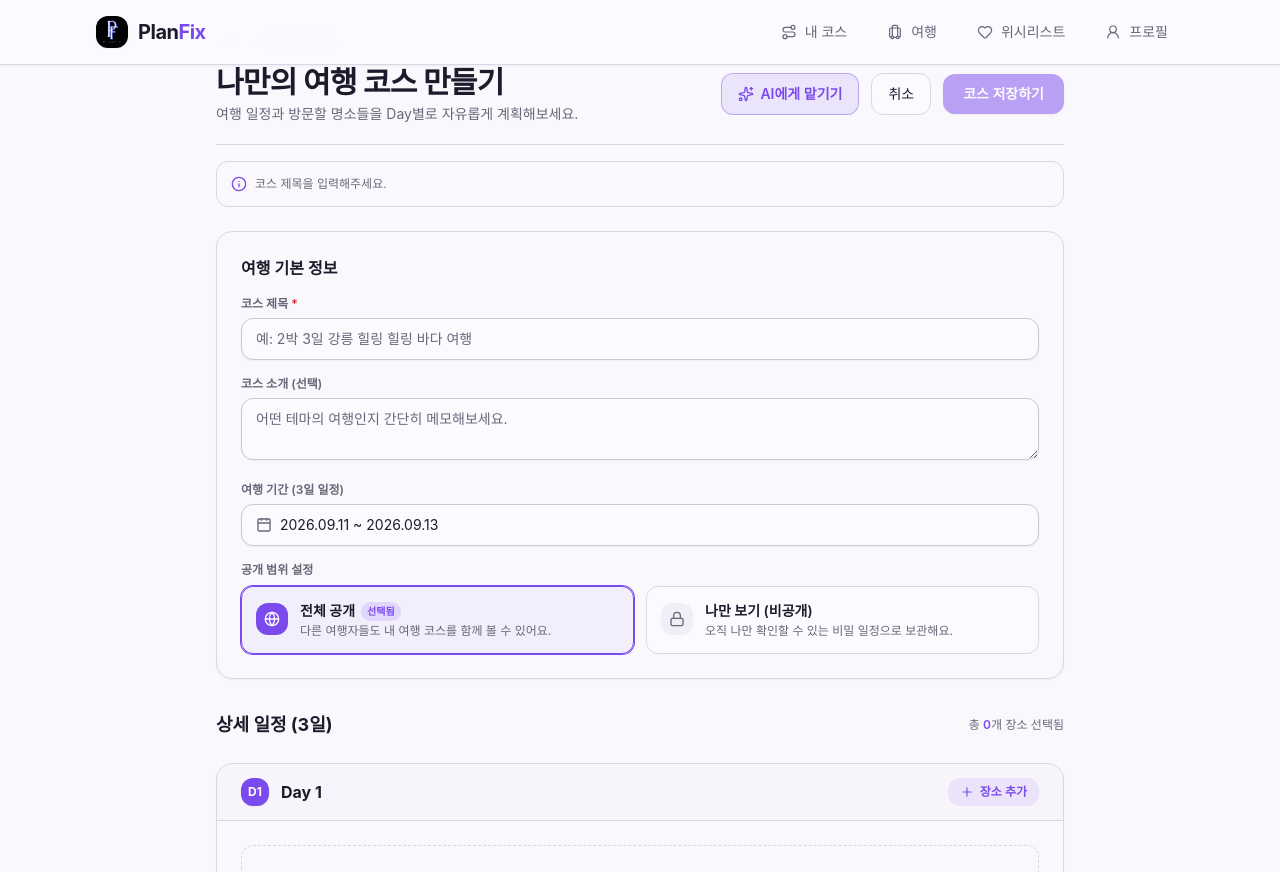
Test: CourseCreatePage › 저장 실패 시 에러 메시지를 표시하고 입력 상태를 유지한다
Type "강릉 바다 여행" into the field with placeholder "예: 2박 3일 강릉 힐링 힐링 바다 여행" at [640, 339], box [241, 318, 1039, 360]
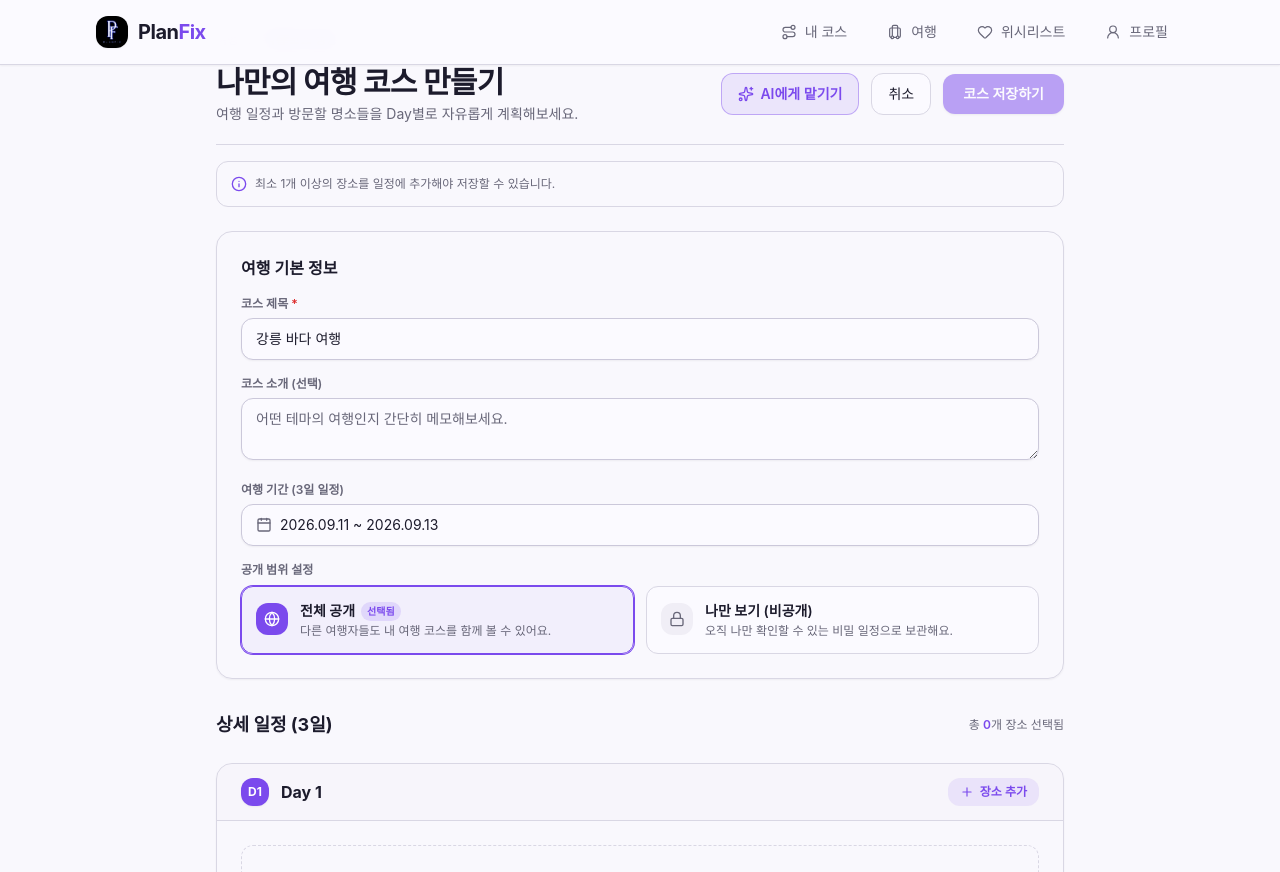
Click the button "장소 추가" at [993, 792], box [948, 778, 1039, 806]
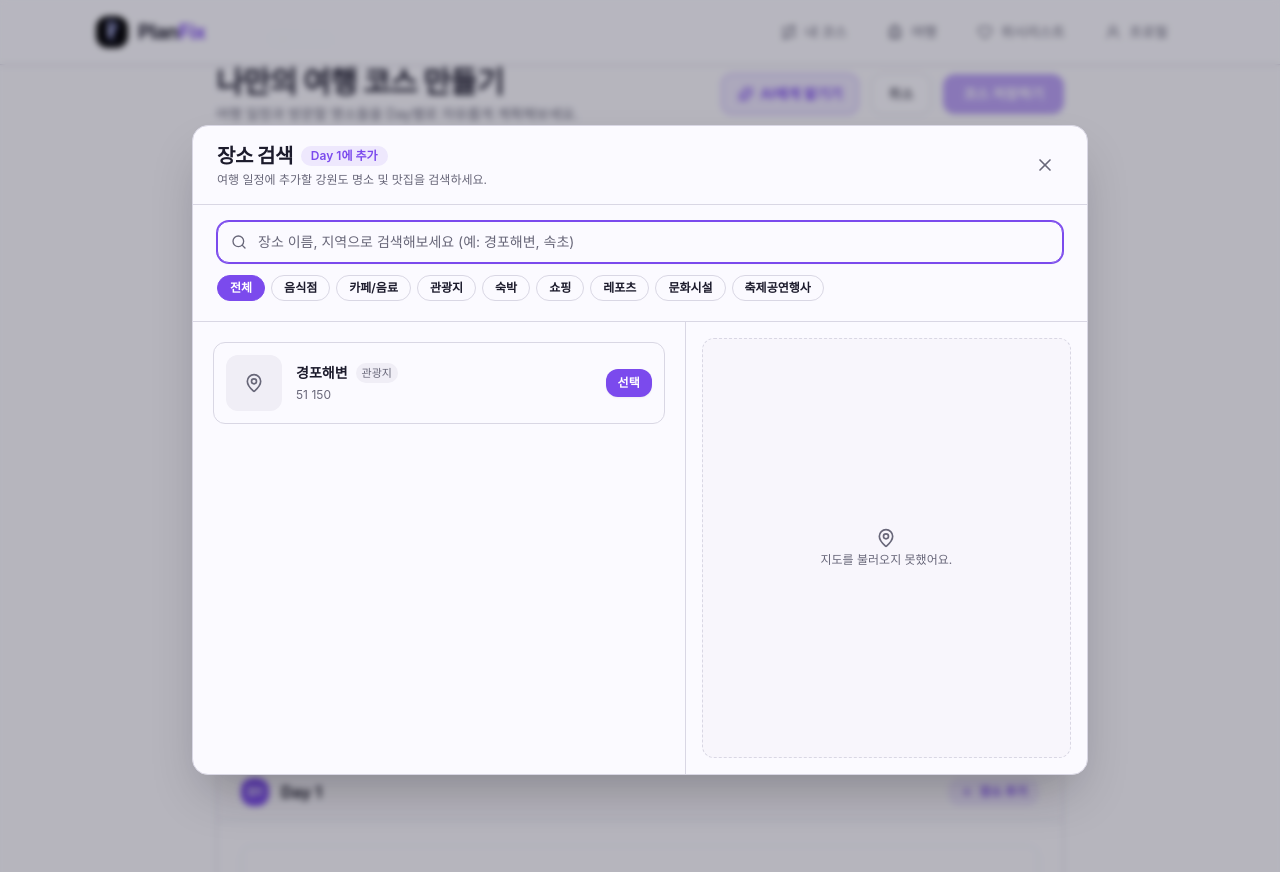
Expected: the text "경포해변" is shown, [296, 363, 348, 383]
Click the button "선택" at [629, 383], box [606, 369, 652, 397]
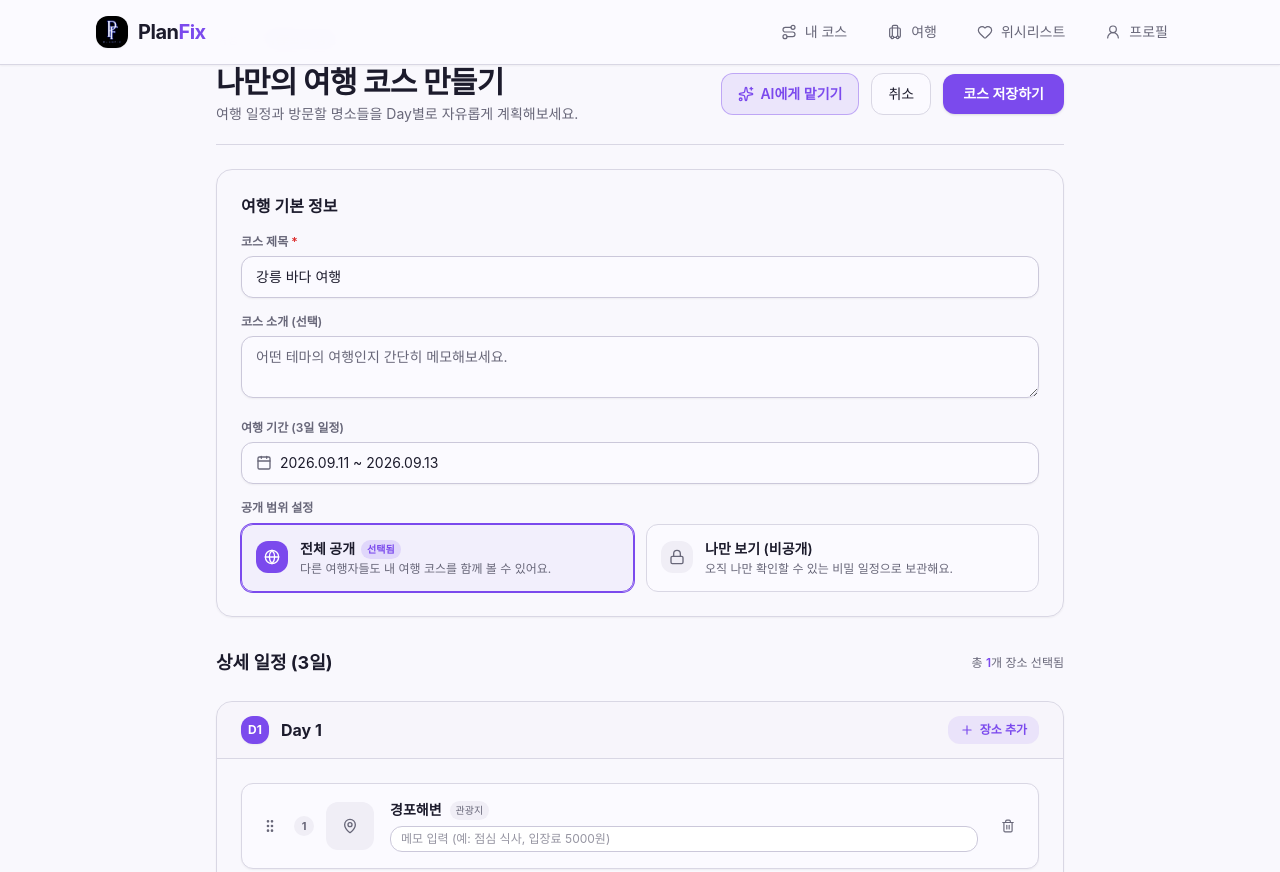
Expected: the text "경포해변" is shown, [390, 800, 442, 820]
Click the button "코스 저장하기" at [1004, 94], box [943, 74, 1064, 114]
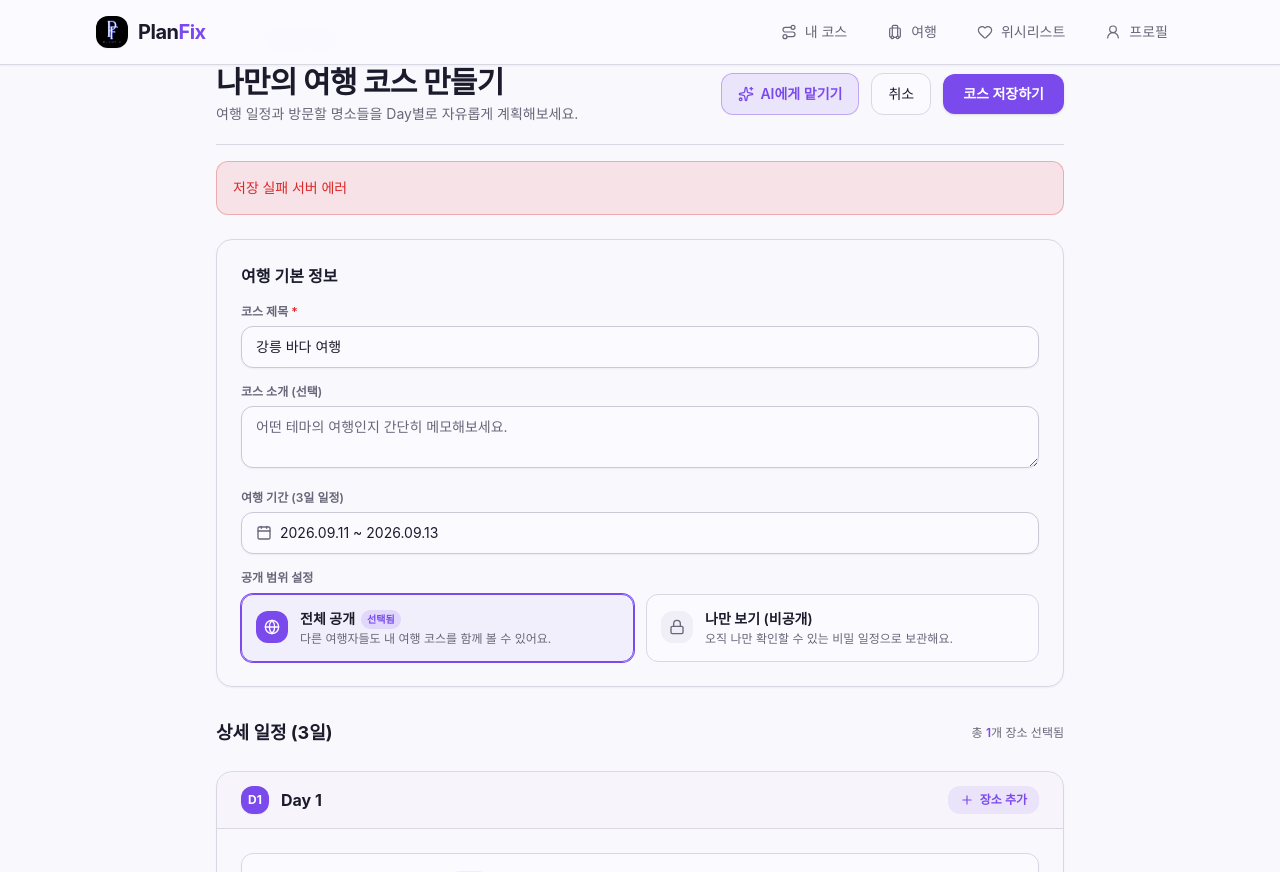
Expected: the text "저장 실패 서버 에러" is shown, [216, 161, 1064, 215]
